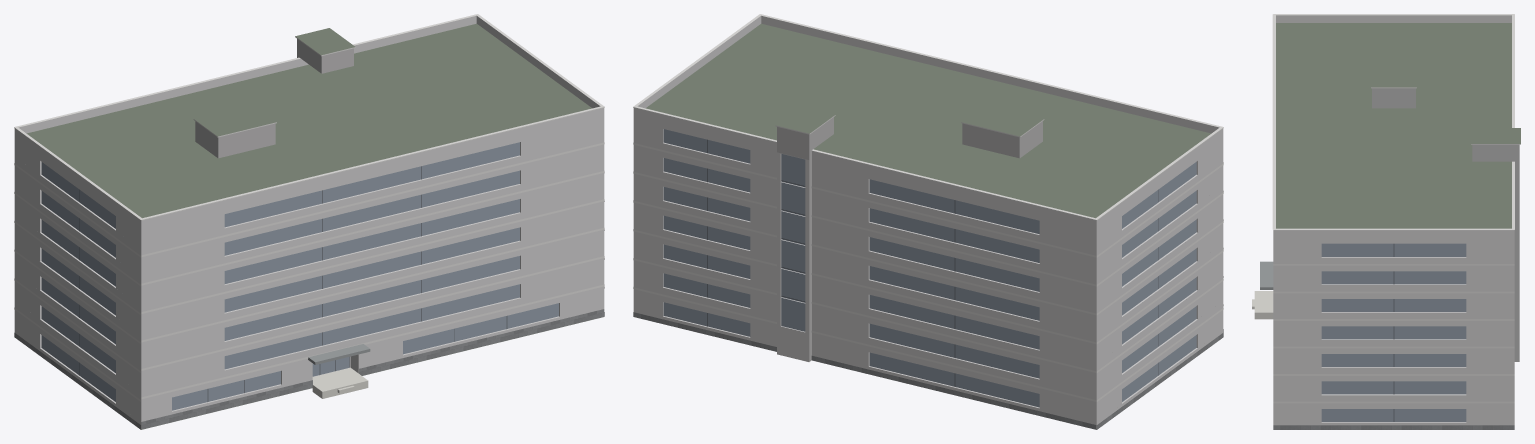
3 renders of one model, left to right at view 1: azimuth 30°, elevation 25°; view 2: azimuth 150°, elevation 25°; view 3: azimuth 270°, elevation 25°, orthographic. The views are drawn at different scales.
Parts seen in each view (by area): view 1: b502__wall, b502__roof, b502__glass, b502__trim, b502__parapet, b502__base, b502__wall2, b502__entranceStair, b502__canopy; view 2: b502__wall, b502__roof, b502__glass, b502__trim, b502__parapet, b502__wall2, b502__base; view 3: b502__roof, b502__wall, b502__glass, b502__trim, b502__parapet, b502__wall2, b502__base, b502__entranceStair, b502__canopy.
Boxes of the visible parts, box(x1,y1,x2,y2) form: b502__wall: box(14, 115, 604, 429); b502__roof: box(26, 23, 603, 429); b502__glass: box(41, 142, 558, 410); b502__trim: box(14, 14, 604, 401); b502__parapet: box(14, 15, 604, 227); b502__base: box(14, 309, 604, 429); b502__wall2: box(195, 39, 353, 158); b502__entranceStair: box(312, 367, 368, 398); b502__canopy: box(308, 344, 370, 364); b502__wall: box(633, 115, 1223, 429); b502__roof: box(645, 23, 1211, 218); b502__glass: box(663, 129, 1196, 407); b502__trim: box(633, 14, 1223, 401); b502__parapet: box(633, 15, 1223, 227); b502__wall2: box(777, 117, 1042, 361); b502__base: box(633, 312, 1223, 429); b502__roof: box(1276, 23, 1520, 228); b502__wall: box(1273, 237, 1514, 425); b502__glass: box(1321, 243, 1466, 421); b502__trim: box(1272, 14, 1520, 403); b502__parapet: box(1273, 15, 1514, 237); b502__wall2: box(1372, 88, 1519, 361); b502__base: box(1273, 425, 1514, 429); b502__entranceStair: box(1252, 291, 1273, 319); b502__canopy: box(1260, 261, 1273, 289).
Size of the model in its own units: 60.56 by 29.09 by 31.88.
11 materials, 1 textured.
